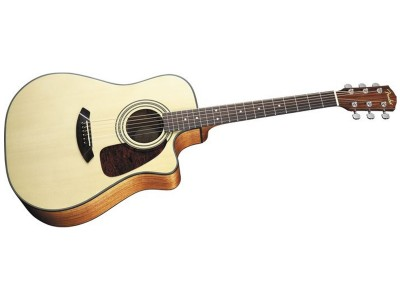guitar: (1, 69, 399, 232)
